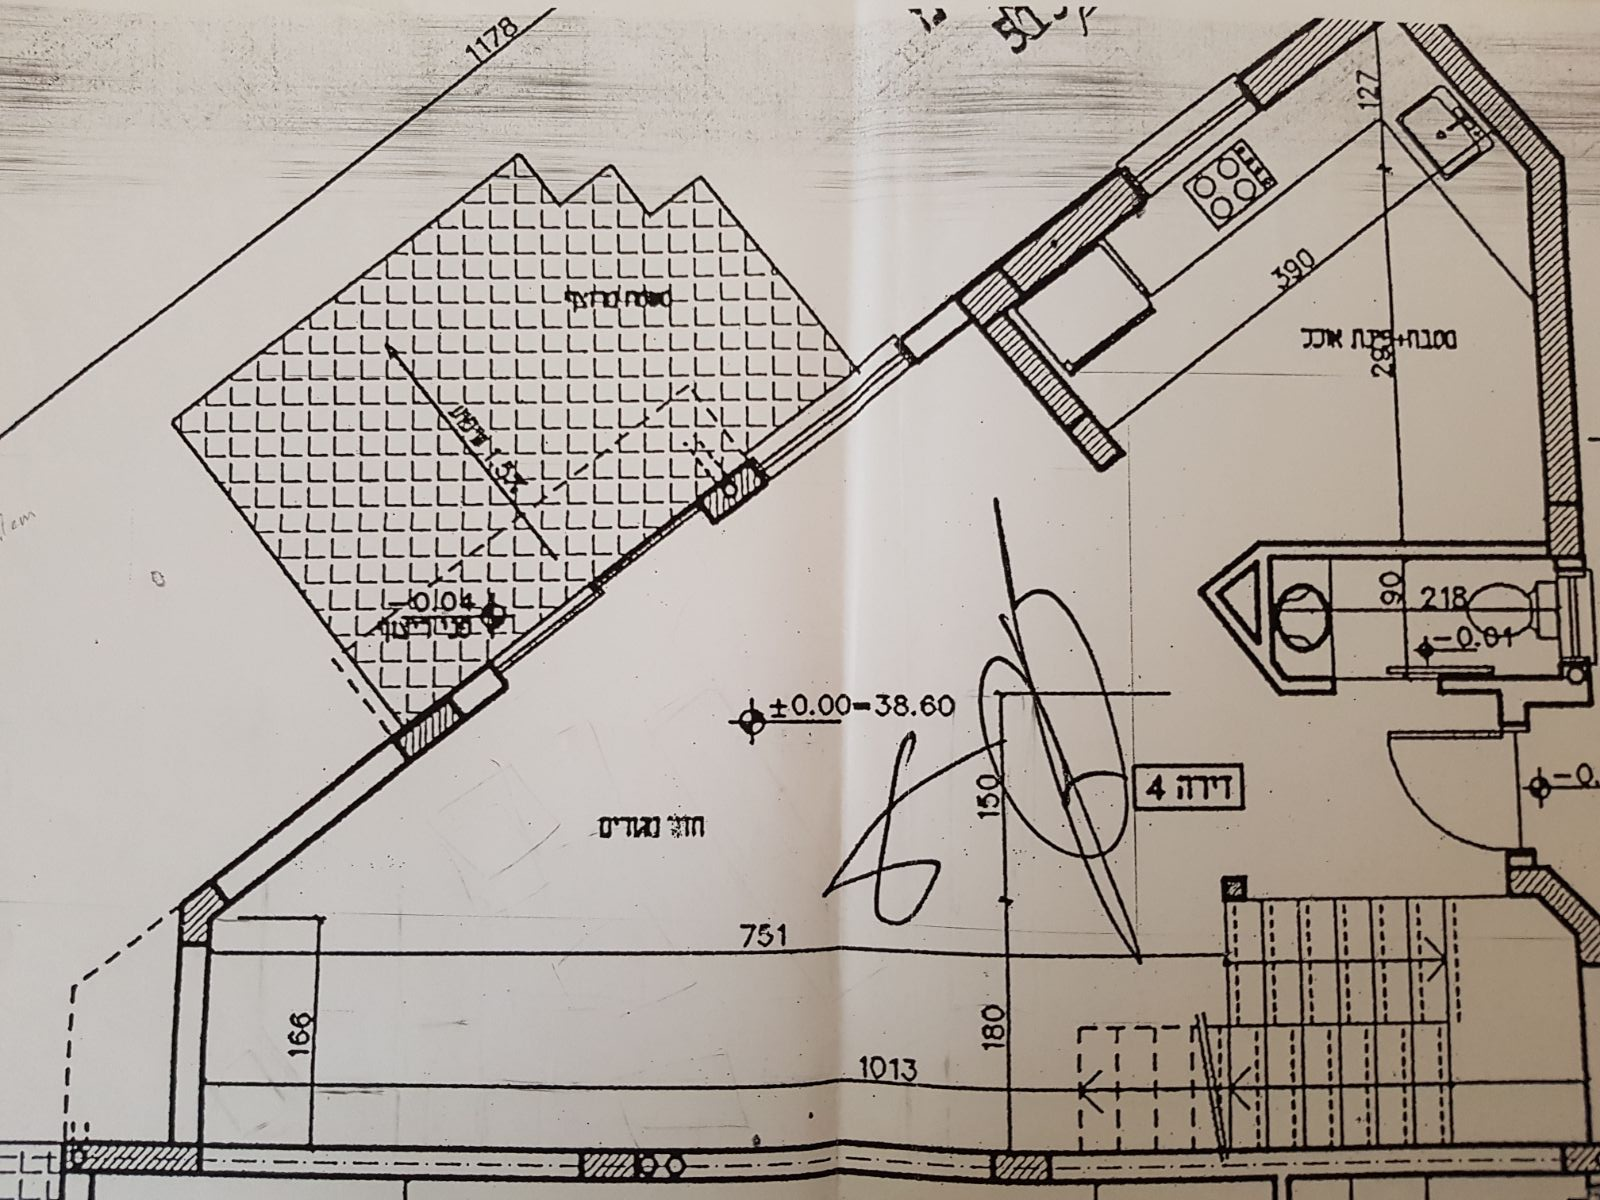door: (1347, 730, 1534, 855)
window: (784, 345, 923, 505)
